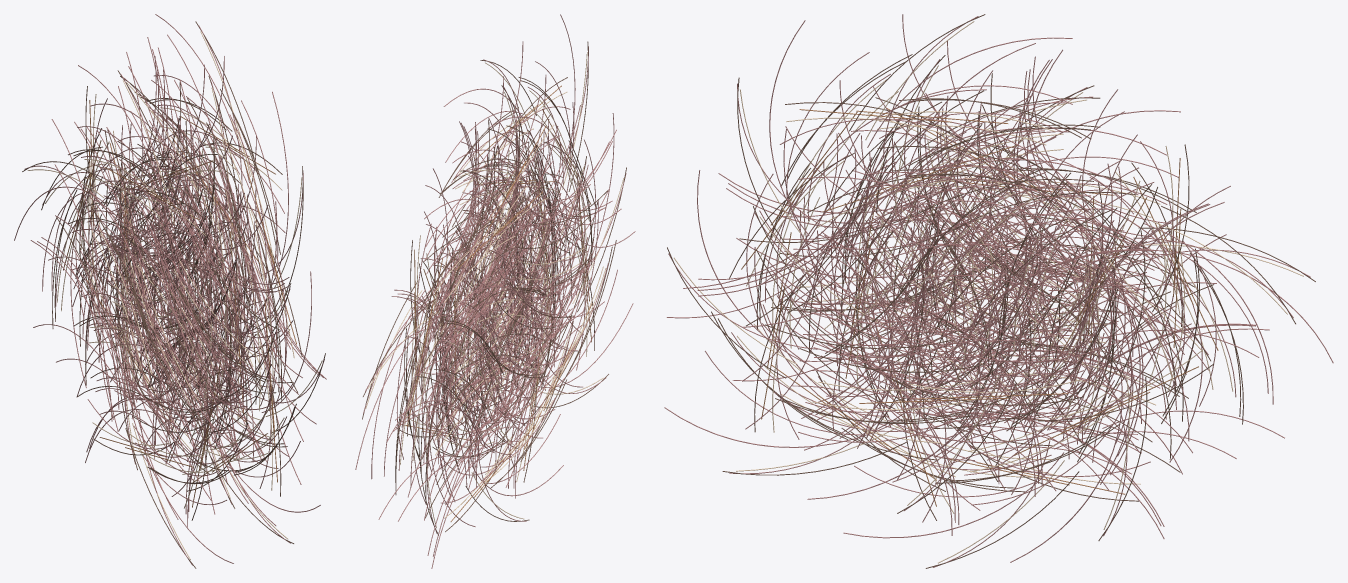
File: 烟丝阵列.glb
3 views of the same model, side by side, from view 1: azimuth 30°, elevation 25°; view 2: azimuth 150°, elevation 25°; view 3: azimuth 270°, elevation 25° (orthographic). The views are drawn at different scales.
Bounding box in the file's own units: 0.0285 × 0.3289 × 0.3506.
